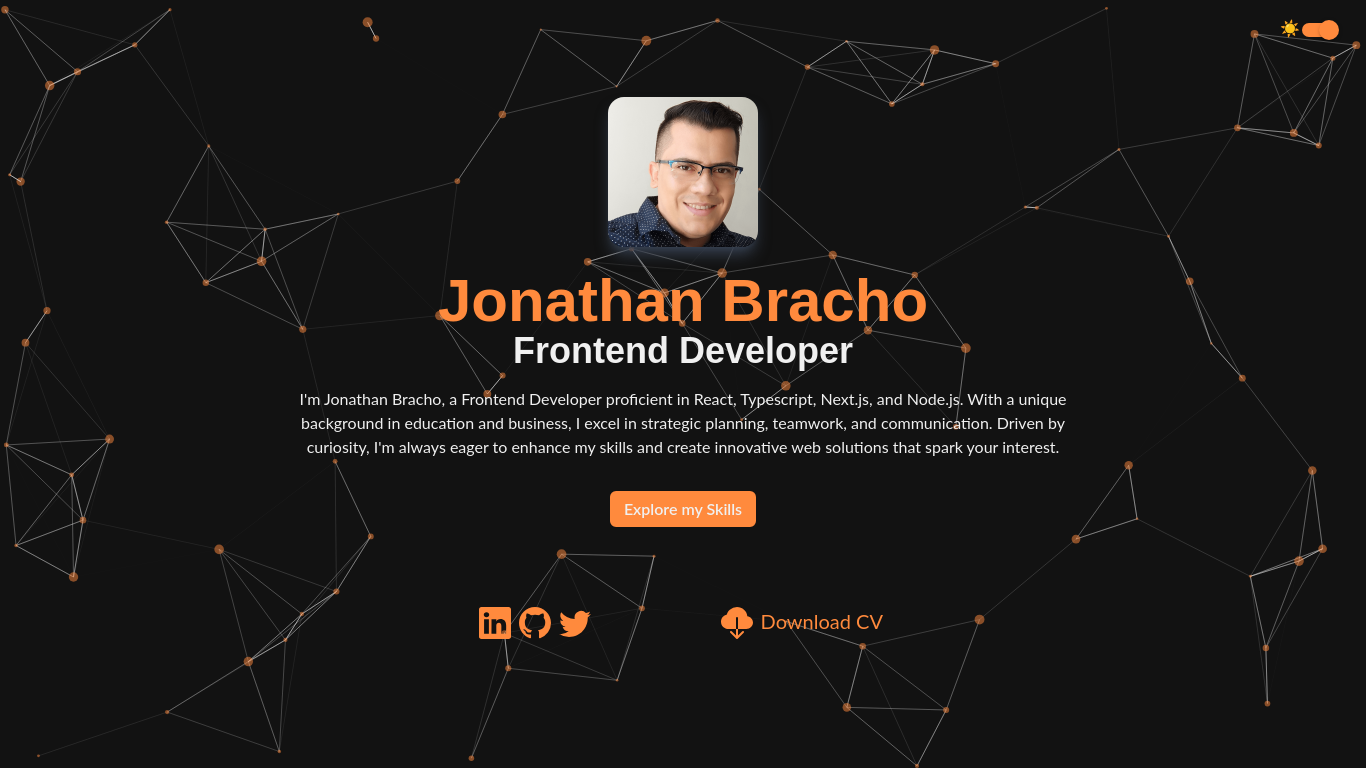
Test: Home Page › should display light theme when clicking the toggle switcher
Expected: the label with class "inline-block" reads "☀️", [1280,16,1302,40]
Step 1. Click the switch with id "flexSwitchCheckDefault" → x=1318, y=30, box [1302,23,1334,37]
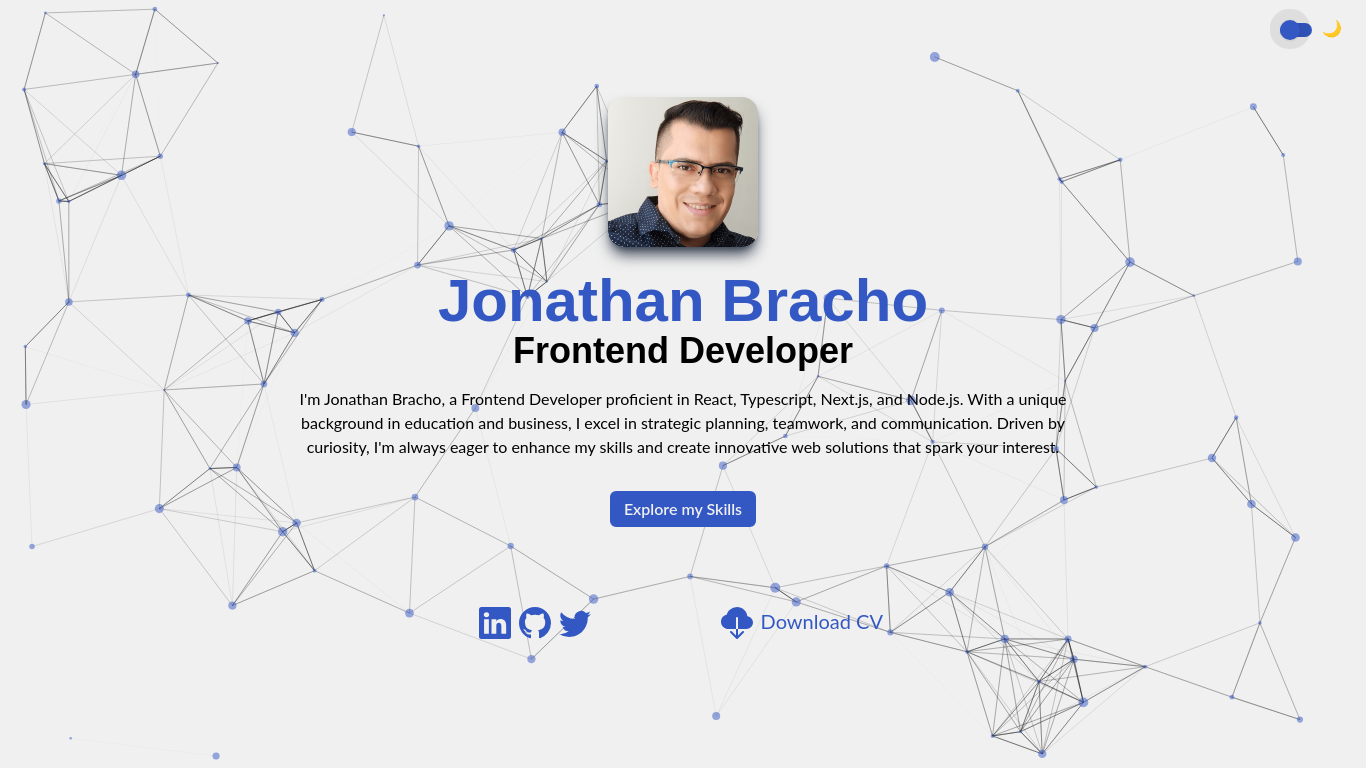
Expected: the label with class "inline-block" reads "🌙", [1320,16,1342,40]
